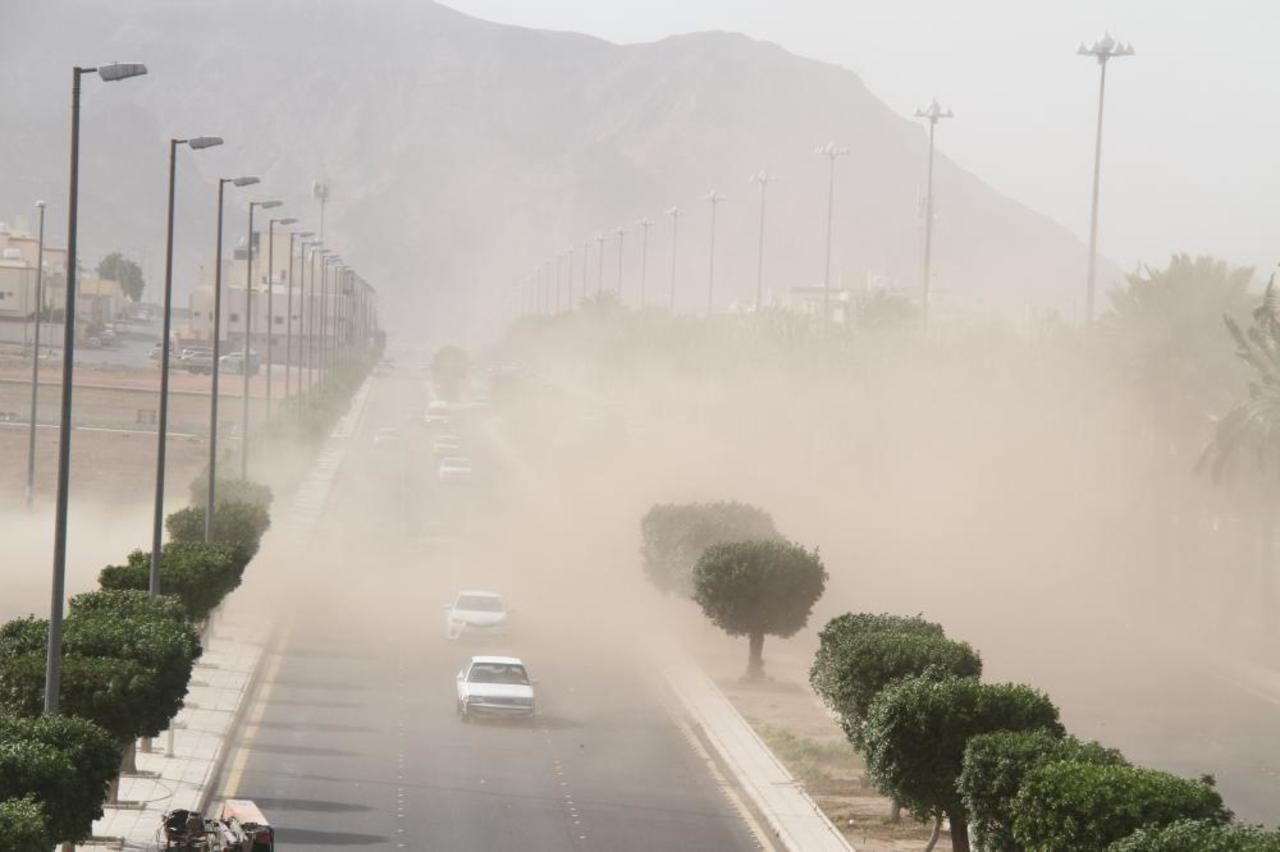car: (453, 654, 537, 722), (442, 589, 507, 639), (419, 519, 465, 556), (441, 459, 476, 484), (373, 427, 403, 450), (426, 403, 449, 433), (220, 345, 249, 366), (433, 437, 457, 458), (181, 352, 213, 366), (469, 397, 484, 413)
